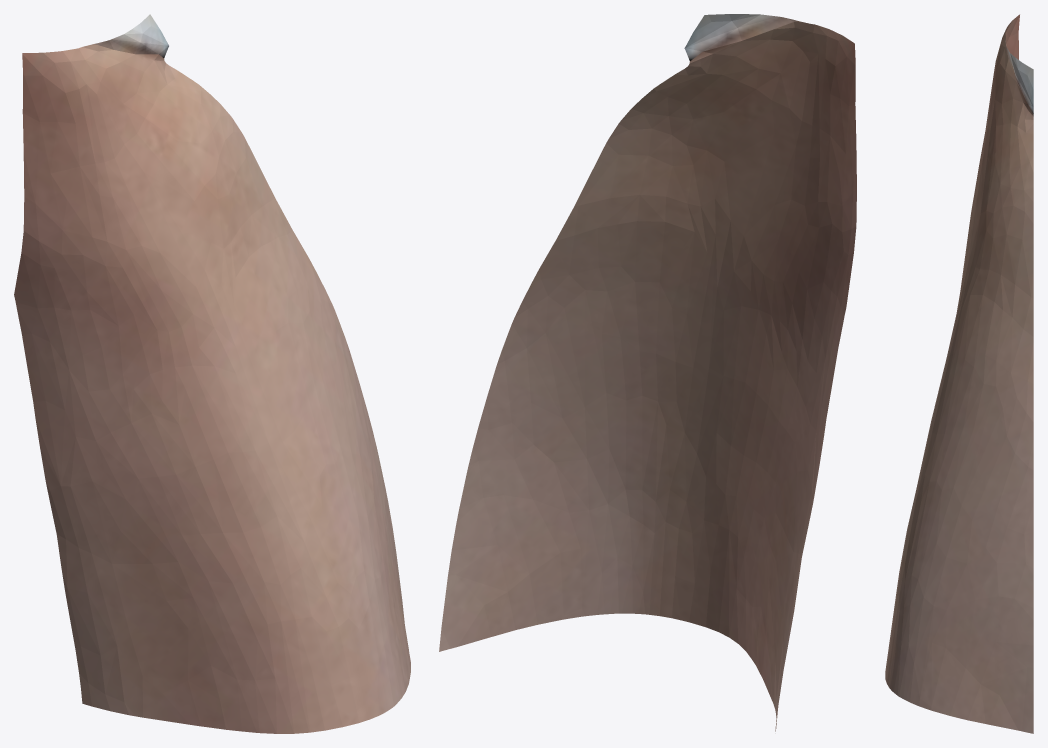
The picture shows the model from 3 angles, left to right: view 1: azimuth 30°, elevation 25°; view 2: azimuth 150°, elevation 25°; view 3: azimuth 270°, elevation 25°; orthographic projection. The views are drawn at different scales.
Bounding box in the file's own units: 104 × 171 × 41.16.
Materials: 1 (1 with a texture image).
